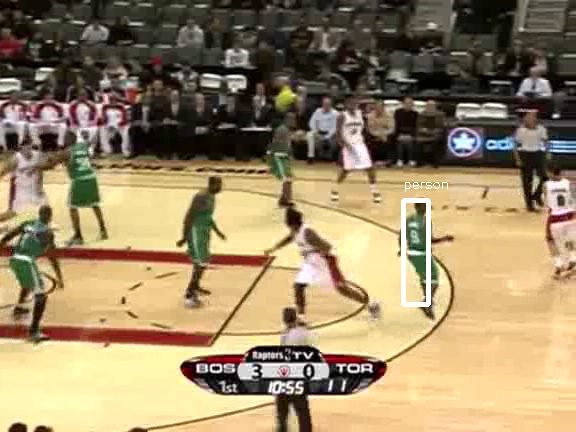person: (404, 212, 438, 293), (403, 212, 437, 293), (405, 212, 439, 293), (404, 211, 438, 292), (404, 213, 438, 294)
target_negative: (256, 131, 544, 352), (203, 48, 271, 362), (15, 346, 376, 376), (307, 328, 351, 430), (184, 368, 382, 387), (425, 402, 535, 426)
